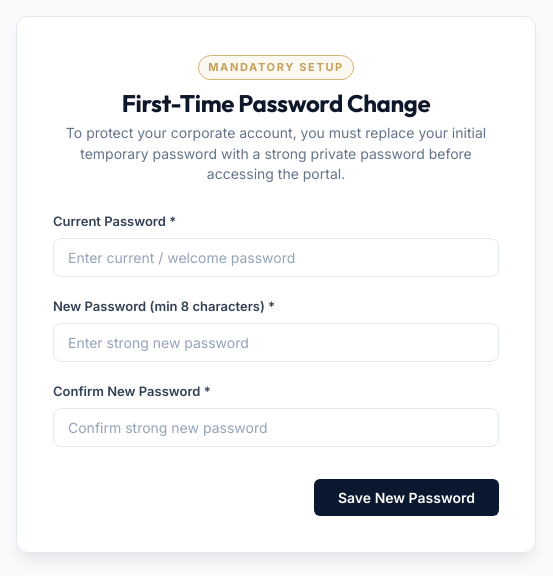
Test case: ChangePasswordPage Component (src/app/(portal)/settings/change-password/page.tsx) › submits valid change, displays success status message, and redirects after timeout
The width and height of the screenshot is (553, 576).
In the password field labelled "Current Password *": (276, 258) [53,238,499,277], type "correct-current"
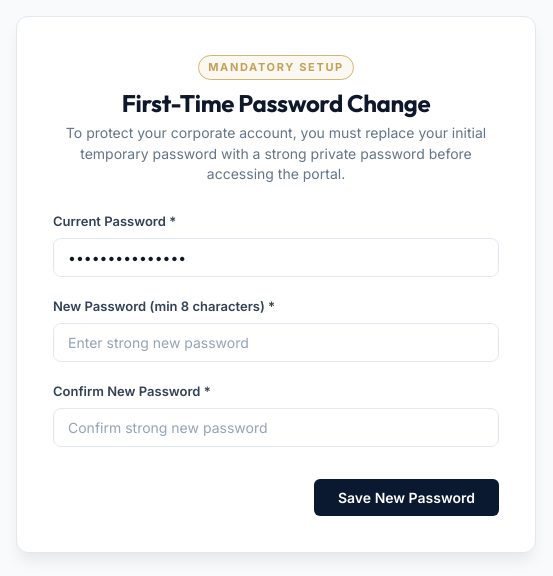
In the password field labelled "New Password (min 8 characters) *": (276, 342) [53,323,499,362], type "StrongPass@2026"
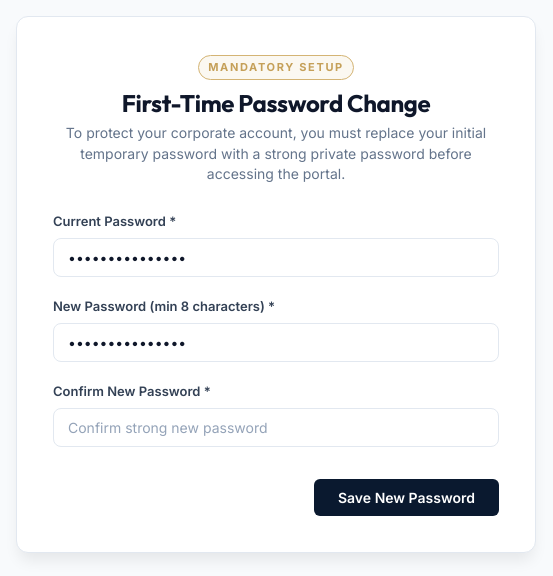
In the password field labelled "Confirm New Password *": (276, 427) [53,408,499,447], type "StrongPass@2026"
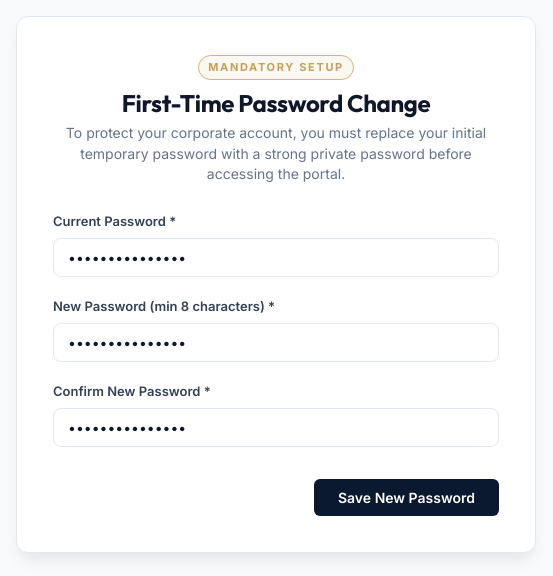
Click the button "Save New Password": (406, 497) [314,479,499,516]
Wait 2100 ms
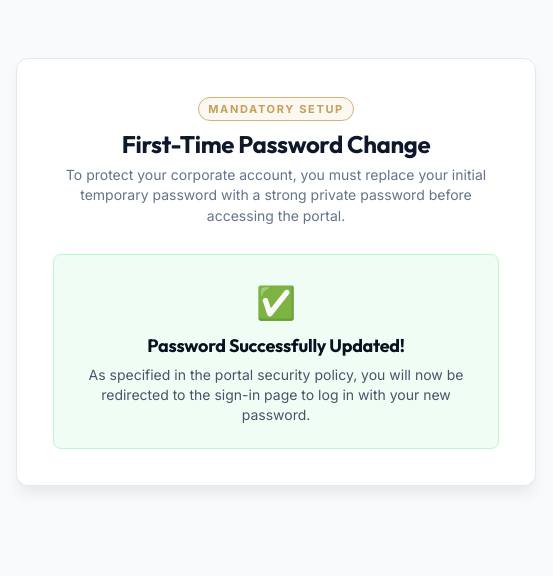
Result: the heading "Password Successfully Updated!" is shown at [147,334,405,357]
